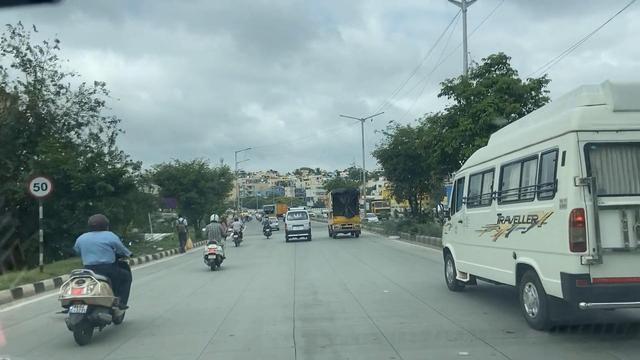HMV: (448, 82, 640, 323), (325, 185, 368, 247)
LMV: (41, 219, 136, 345), (197, 214, 228, 269), (277, 210, 319, 243)
